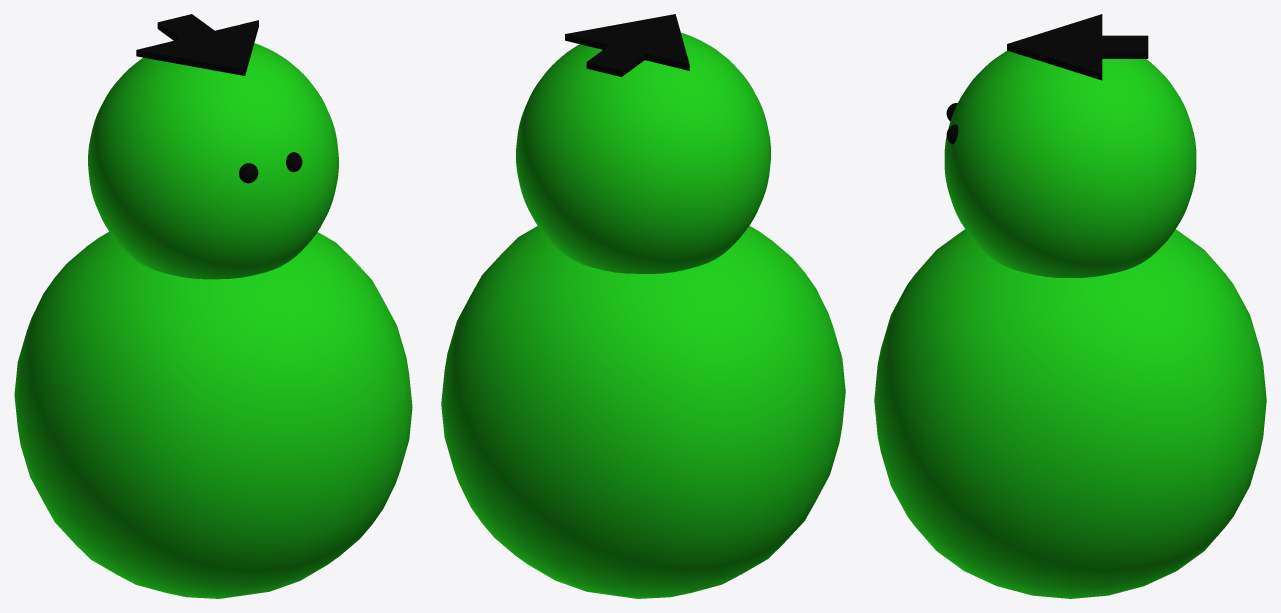
Rendered from 1green.obj.
The picture shows the model from 3 angles, left to right: view 1: azimuth 30°, elevation 25°; view 2: azimuth 150°, elevation 25°; view 3: azimuth 270°, elevation 25°; orthographic projection.
Visible parts, largest first — view 1: Cube.002_Cube.003_Material.001, Cube.002_Cube.003_SVGMat; view 2: Cube.002_Cube.003_Material.001, Cube.002_Cube.003_SVGMat; view 3: Cube.002_Cube.003_Material.001, Cube.002_Cube.003_SVGMat.
Part boxes in pixels (x1,y1,x2,y2): Cube.002_Cube.003_Material.001: (14,43,412,598); Cube.002_Cube.003_SVGMat: (136,14,302,183); Cube.002_Cube.003_Material.001: (441,32,845,598); Cube.002_Cube.003_SVGMat: (565,14,689,76); Cube.002_Cube.003_Material.001: (874,50,1266,598); Cube.002_Cube.003_SVGMat: (946,14,1148,144).
Size of the model in its own units: 0.3205 by 0.4814 by 0.3205.
